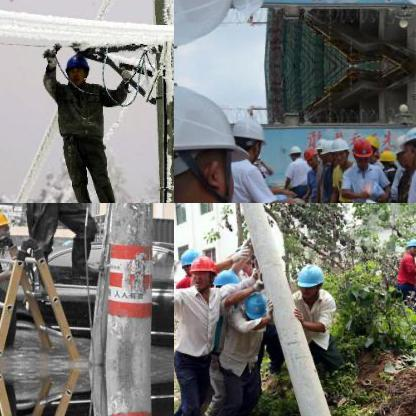Helmet: (234, 112, 266, 160), (294, 260, 324, 298), (186, 249, 214, 287), (238, 290, 270, 323), (61, 49, 88, 83), (233, 0, 268, 18), (352, 136, 372, 164), (318, 137, 338, 165), (402, 124, 415, 163), (330, 136, 348, 164), (392, 132, 406, 168), (378, 146, 396, 174), (178, 246, 196, 274), (0, 206, 13, 244), (302, 144, 316, 168), (286, 142, 300, 160), (404, 232, 415, 252), (401, 0, 415, 6)
